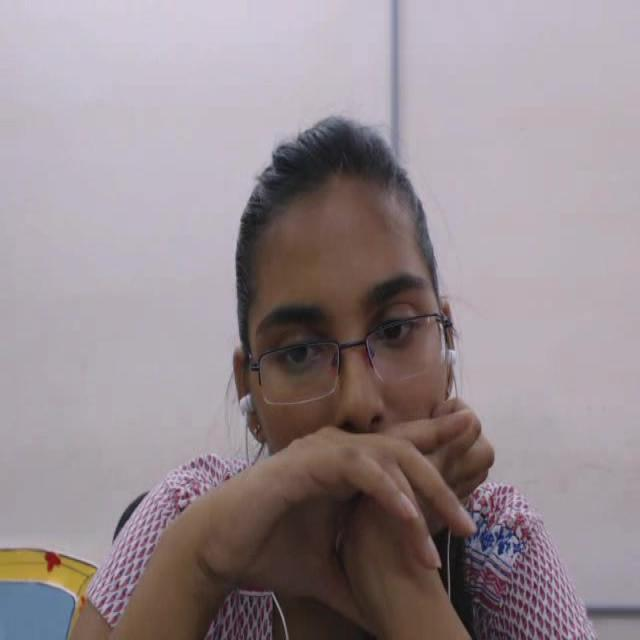Bored: (225, 84, 491, 554)
